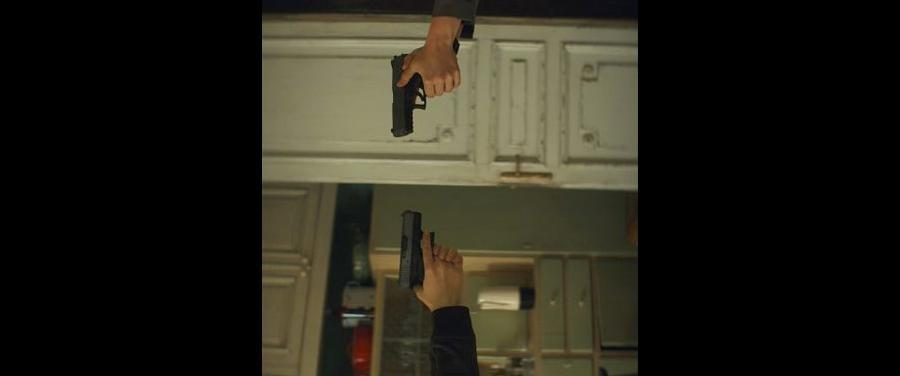gun: (394, 202, 459, 308), (384, 45, 445, 142)
